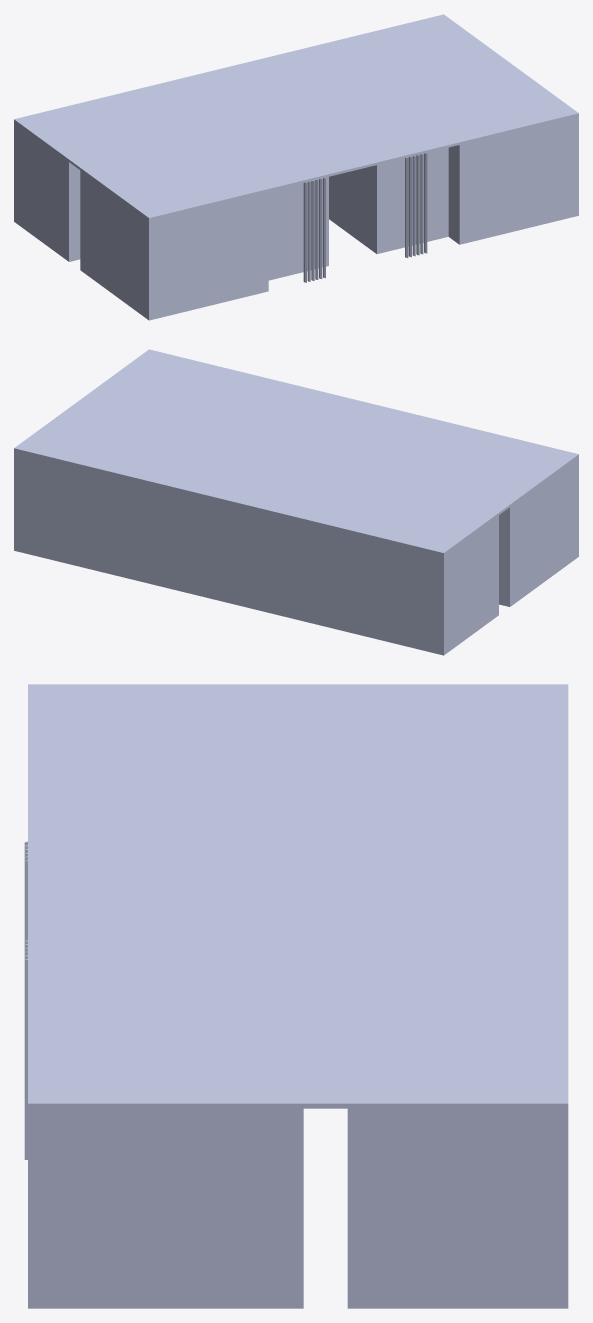
The picture shows the model from 3 angles, top to bottom: view 1: azimuth 30°, elevation 25°; view 2: azimuth 150°, elevation 25°; view 3: azimuth 270°, elevation 25°; orthographic projection. The views are drawn at different scales.
Visible parts, largest first — view 1: color; view 2: color; view 3: color.
Part boxes in pixels (left/top/right/bottom): color: left=14, top=14, right=578, bottom=320; color: left=14, top=349, right=578, bottom=655; color: left=24, top=684, right=568, bottom=1308.
Bounding box in the file's own units: 0.18 × 0.0411 × 0.0986.
